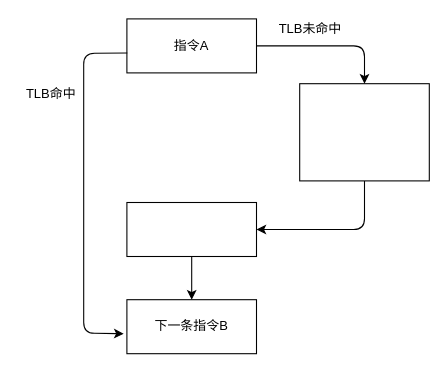
Image size: 448x373. Some labels were removed from this diagram. The box of each missing label's shape, as (x1, y1, x2, y2) in pixels:
异常处理器程序，通过硬件逐级查找页表，找到对应的页表项，写回到TLB中。若未找到，则发出Page Fault: (299, 83, 429, 181)
重新执行指令A: (126, 201, 256, 256)
